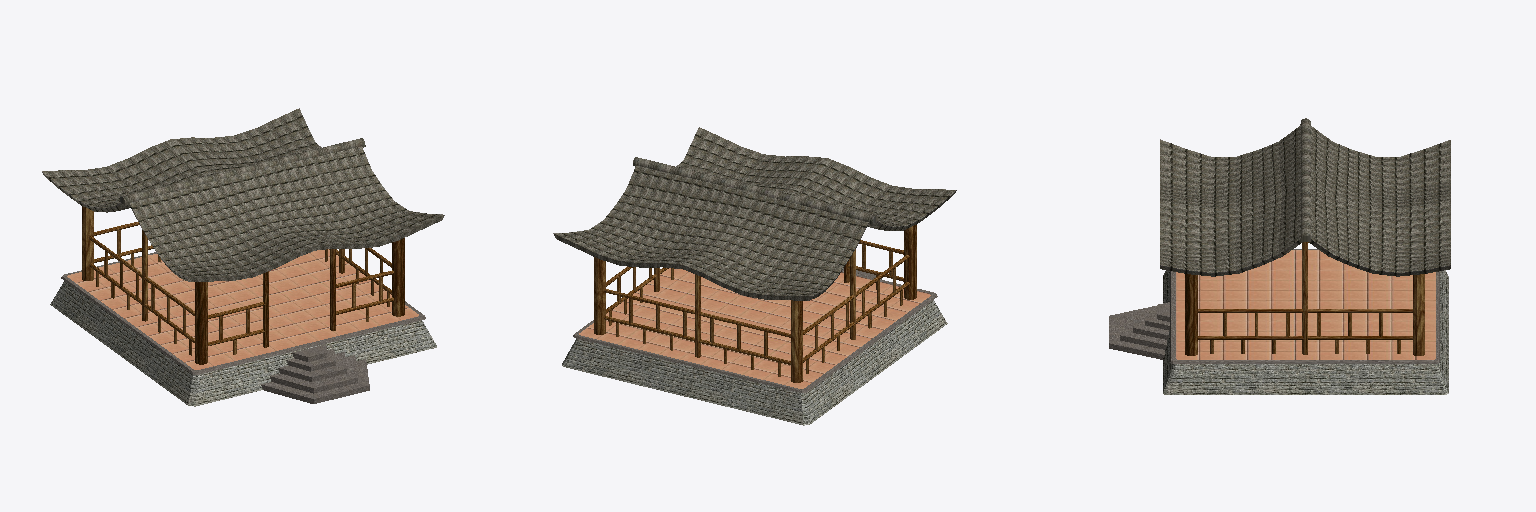
3 views of the same model, side by side, from view 1: azimuth 30°, elevation 25°; view 2: azimuth 150°, elevation 25°; view 3: azimuth 270°, elevation 25° (orthographic).
Bounding box in the file's own units: 9.18 × 5.36 × 10.55.
Materials: 1 (1 with a texture image).